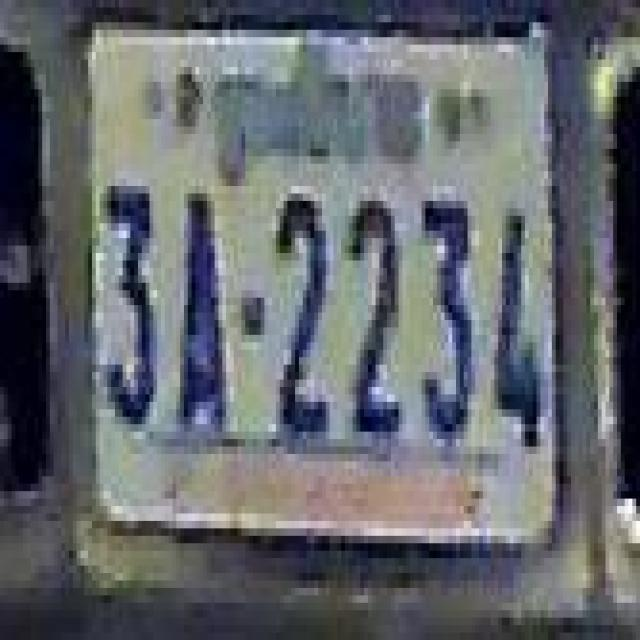Preah_Sihanouk: (215, 37, 424, 188)
